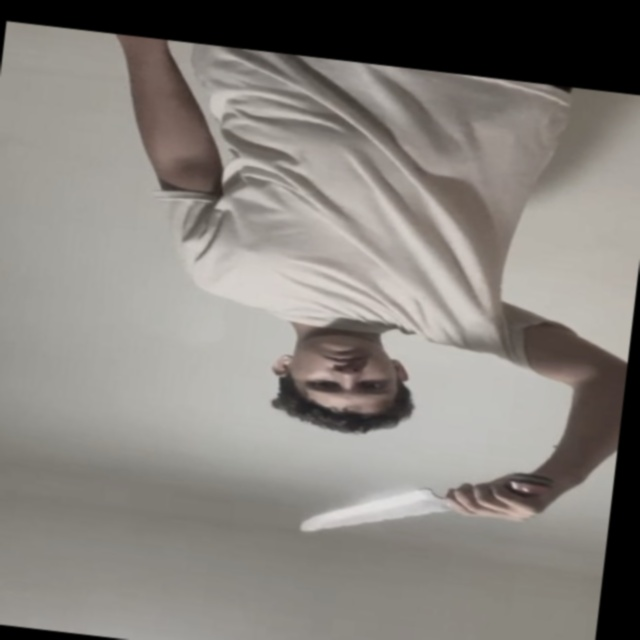Sharp-Object: (305, 475, 444, 549)
